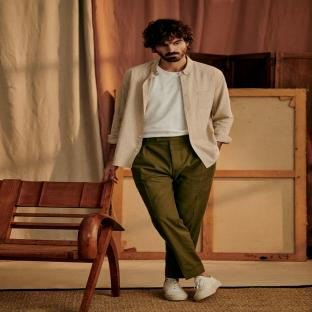Human: (104, 19, 233, 300)
